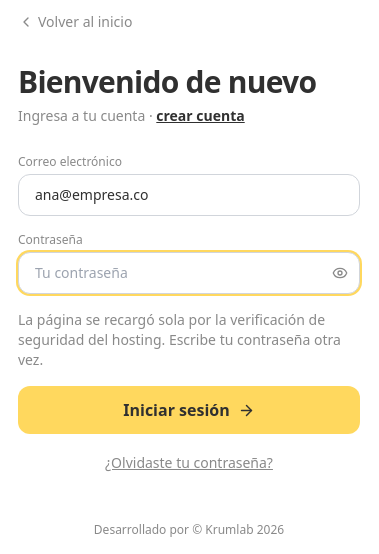
Scenario: Login · un 403 de otra capa › y si ya se recargó hace poco, con ese JSON tampoco hay bucle: avisa
Type "lo-que-sea" into the password field labelled "Contraseña".
click(189, 273); type("lo-que-sea")  # box top-left (18, 252), bottom-right (360, 294)
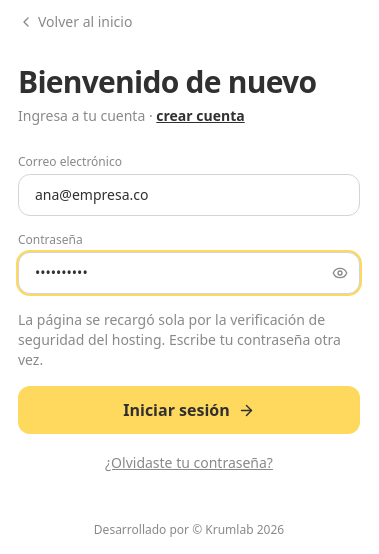
Click the button "Iniciar sesión".
click(189, 410)  # box top-left (18, 386), bottom-right (360, 434)
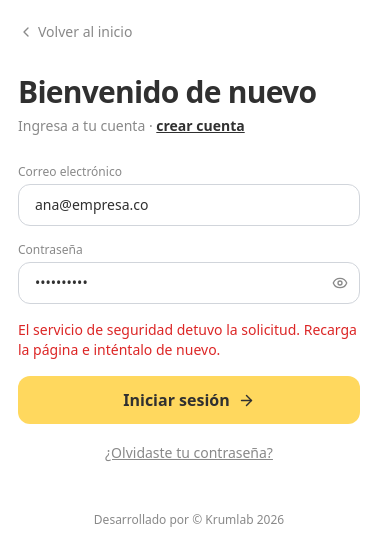
expect the text "El servicio de seguridad detuvo la solicitud. Recarga la página e inténtalo de nuevo." is shown: met, box top-left (18, 320), bottom-right (357, 359)
